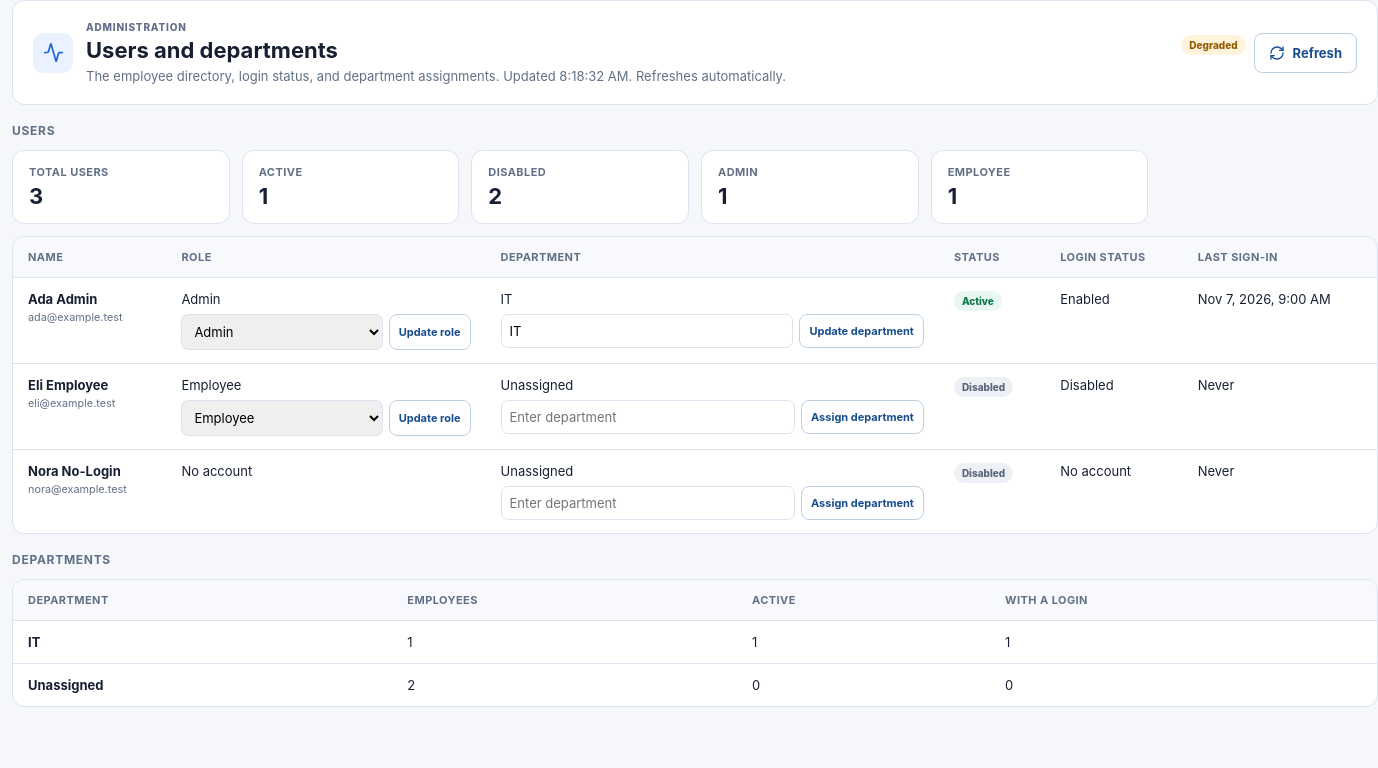
Scenario: AdminDashboardPage data › allows an administrator to explicitly assign an unassigned user department
The width and height of the screenshot is (1378, 768).
Expected: the button "Assign department" in the row of "eli@example.test" is disabled, [801,400,924,434]
In the field named "Department for Eli Employee": [648, 417] box [500,400,795,434], type "People Operations"
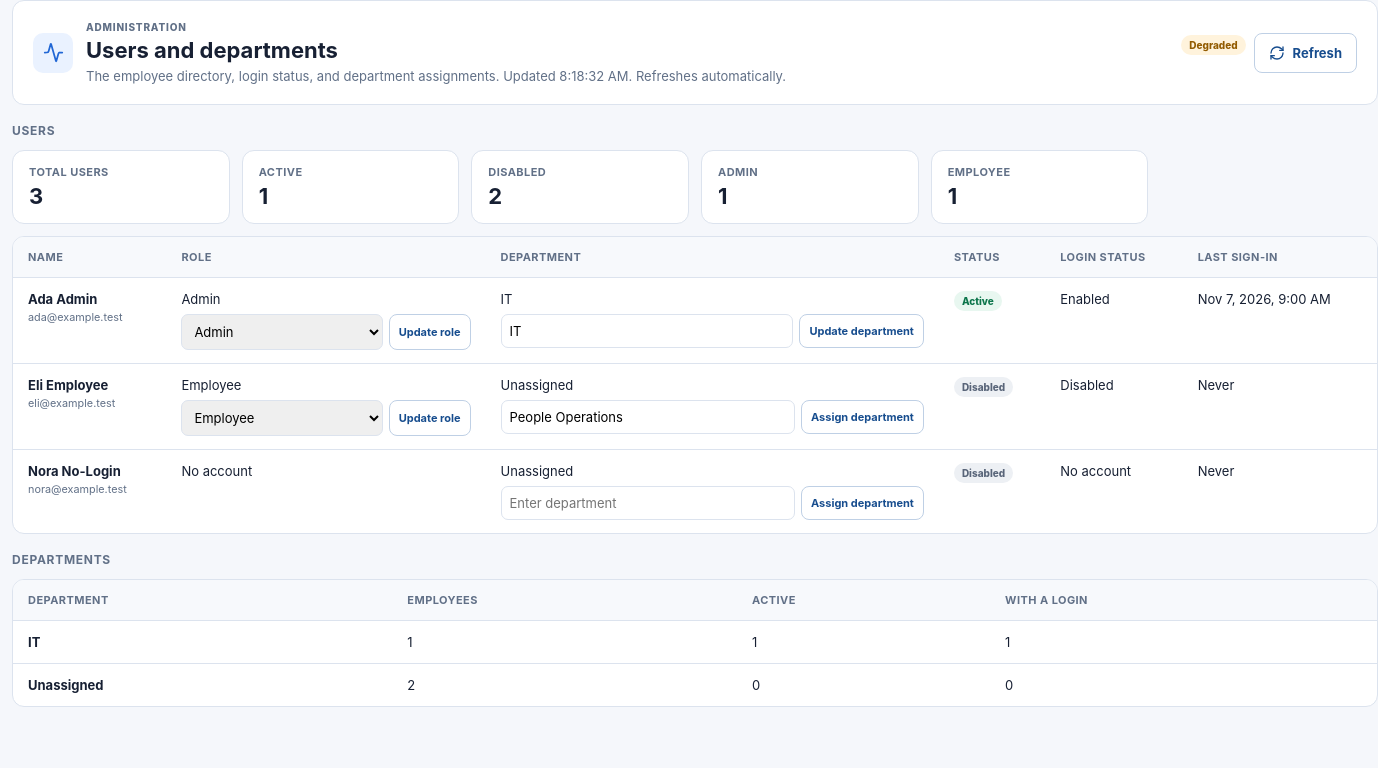
Click the button "Assign department" in the row of "eli@example.test": [862, 417] box [801,400,924,434]
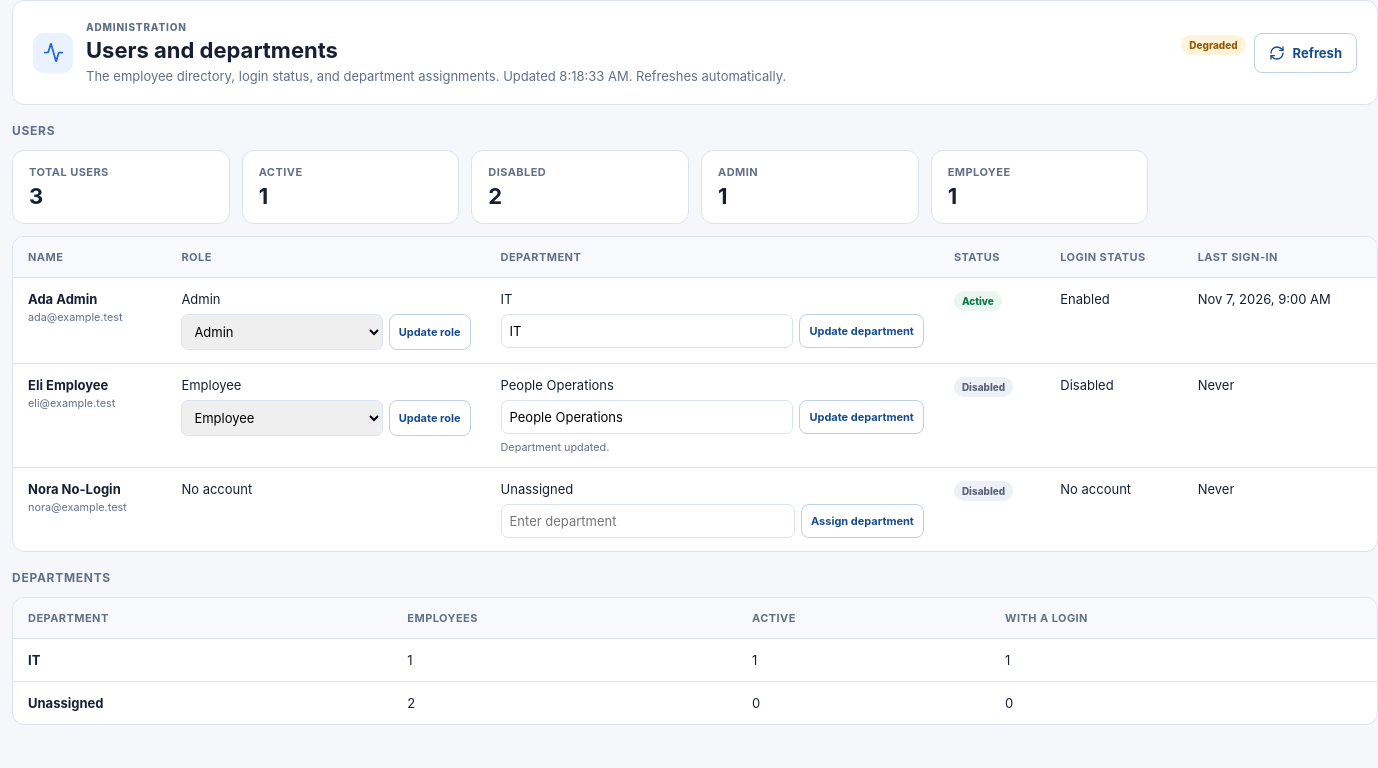
Now the text "Department updated." is shown, box [500,441,609,454]
Now the text "People Operations" is shown, box [500,377,614,393]
